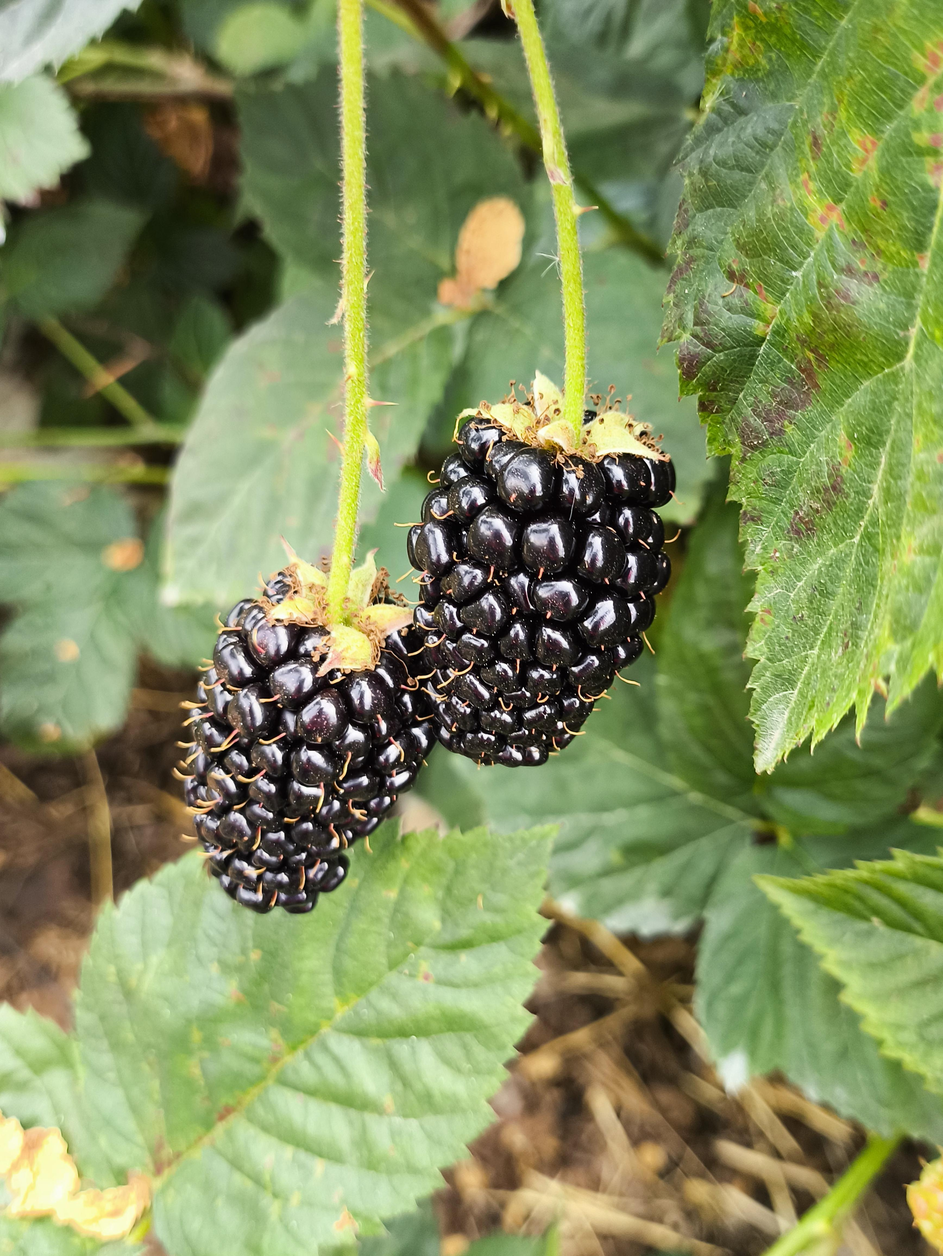maduro: (410, 413, 655, 762), (185, 572, 435, 911)
